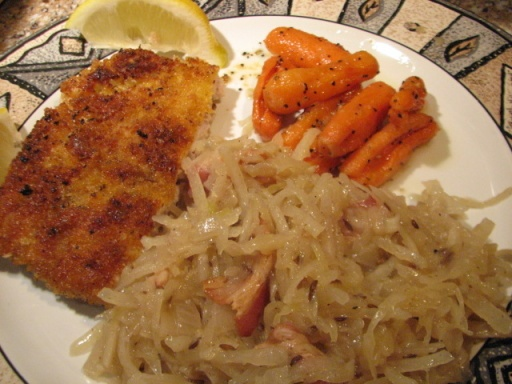background: (1, 0, 409, 230)
